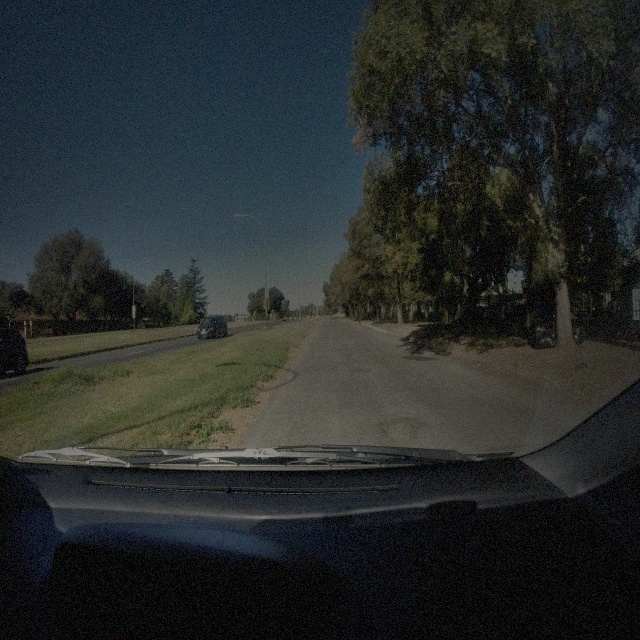pothole: (380, 409, 424, 444), (352, 365, 372, 378)
